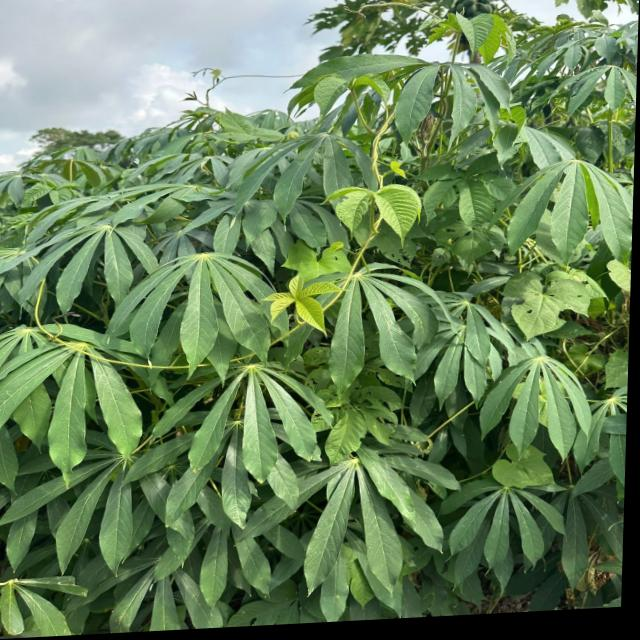Maleza: (408, 150, 499, 258), (275, 243, 340, 339), (509, 267, 590, 338), (328, 180, 420, 241), (318, 393, 395, 458), (442, 8, 510, 60), (496, 444, 555, 487)
